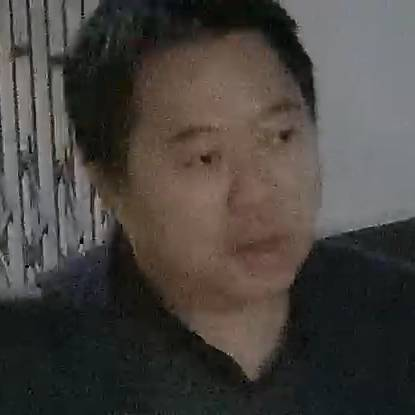cb: (92, 31, 370, 309)
